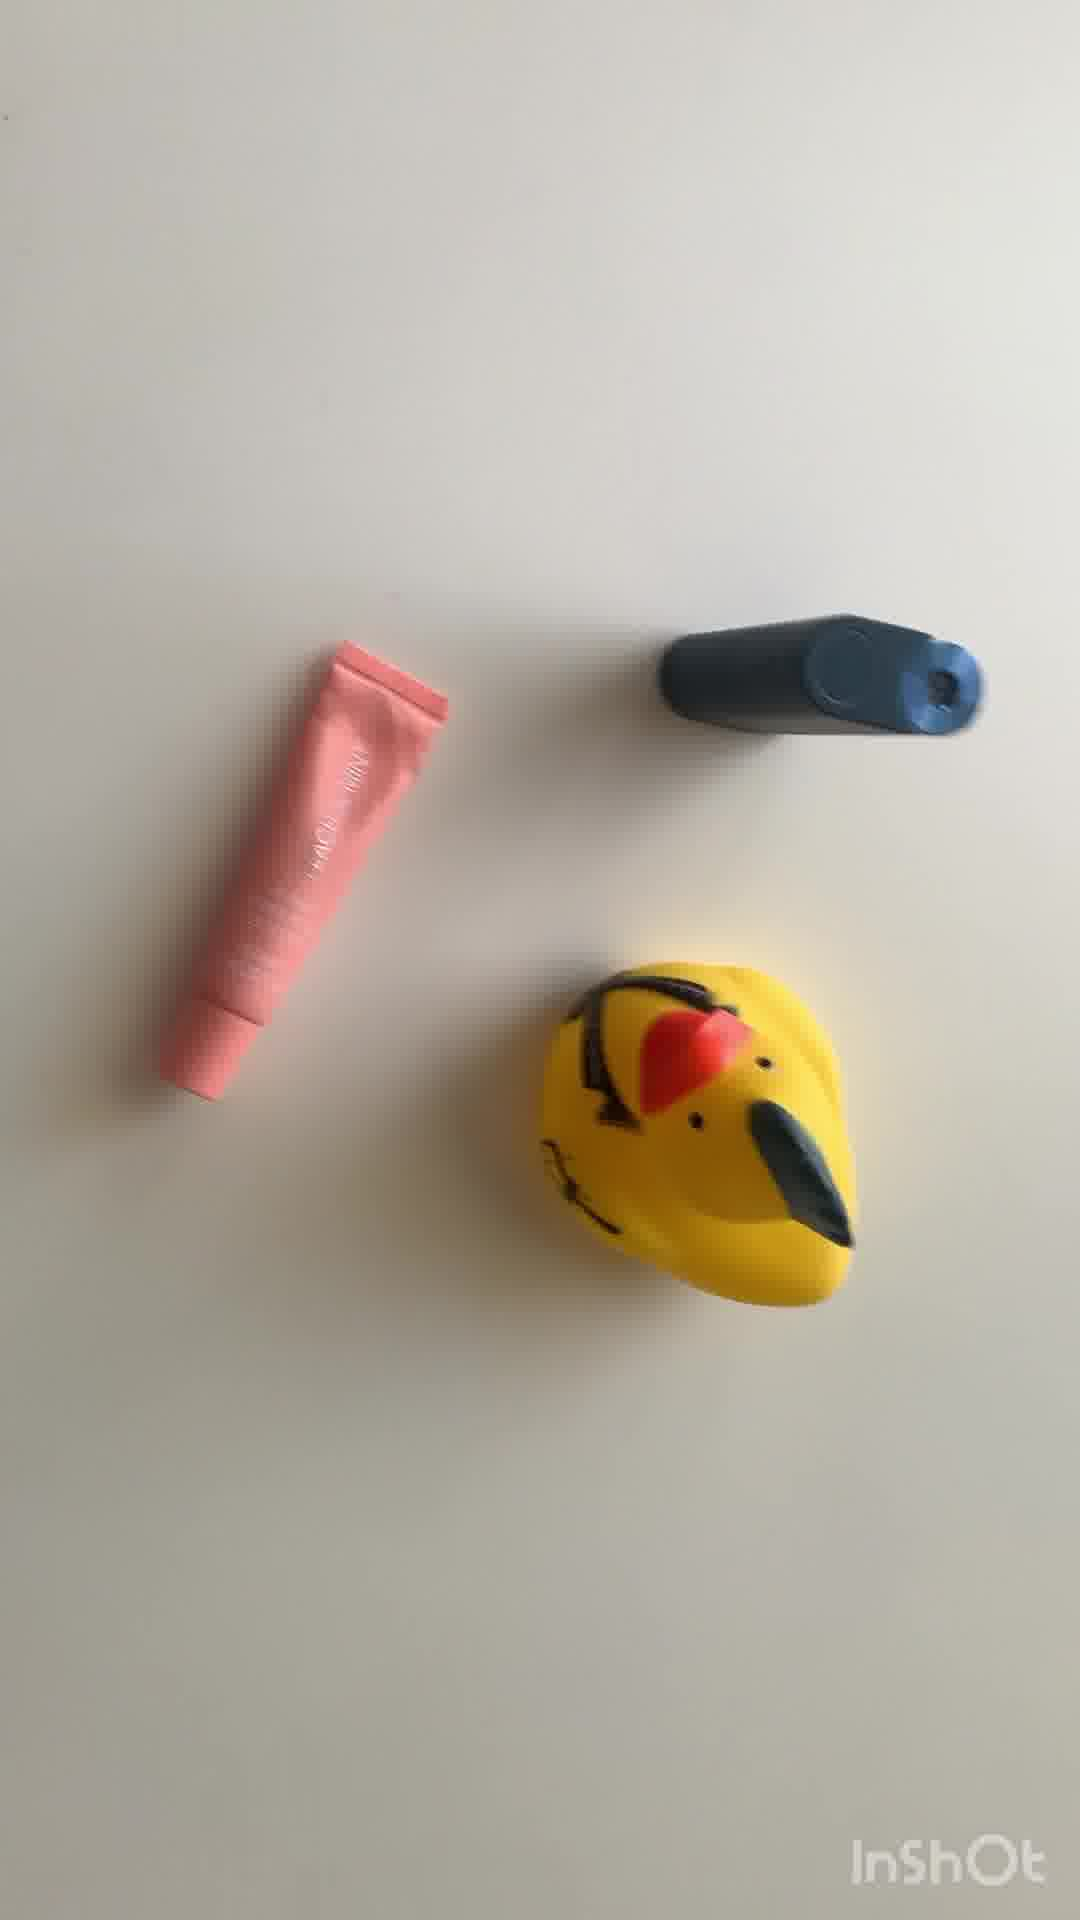duck: (546, 953, 856, 1313)
glo: (655, 605, 992, 746)
lip balm: (162, 634, 451, 1105)
